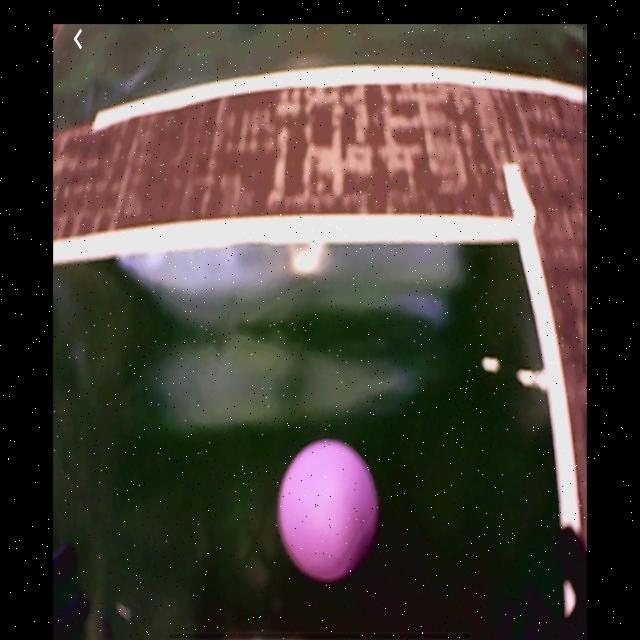ball: (278, 439, 381, 583)
